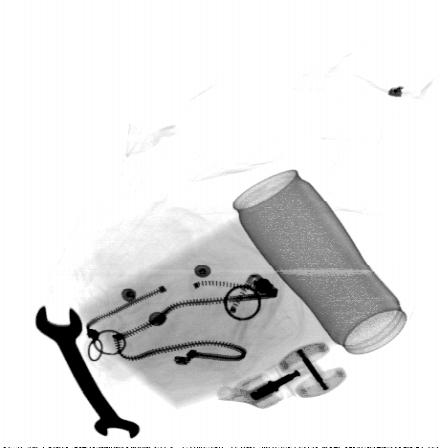Wrench: (34, 304, 141, 440)
